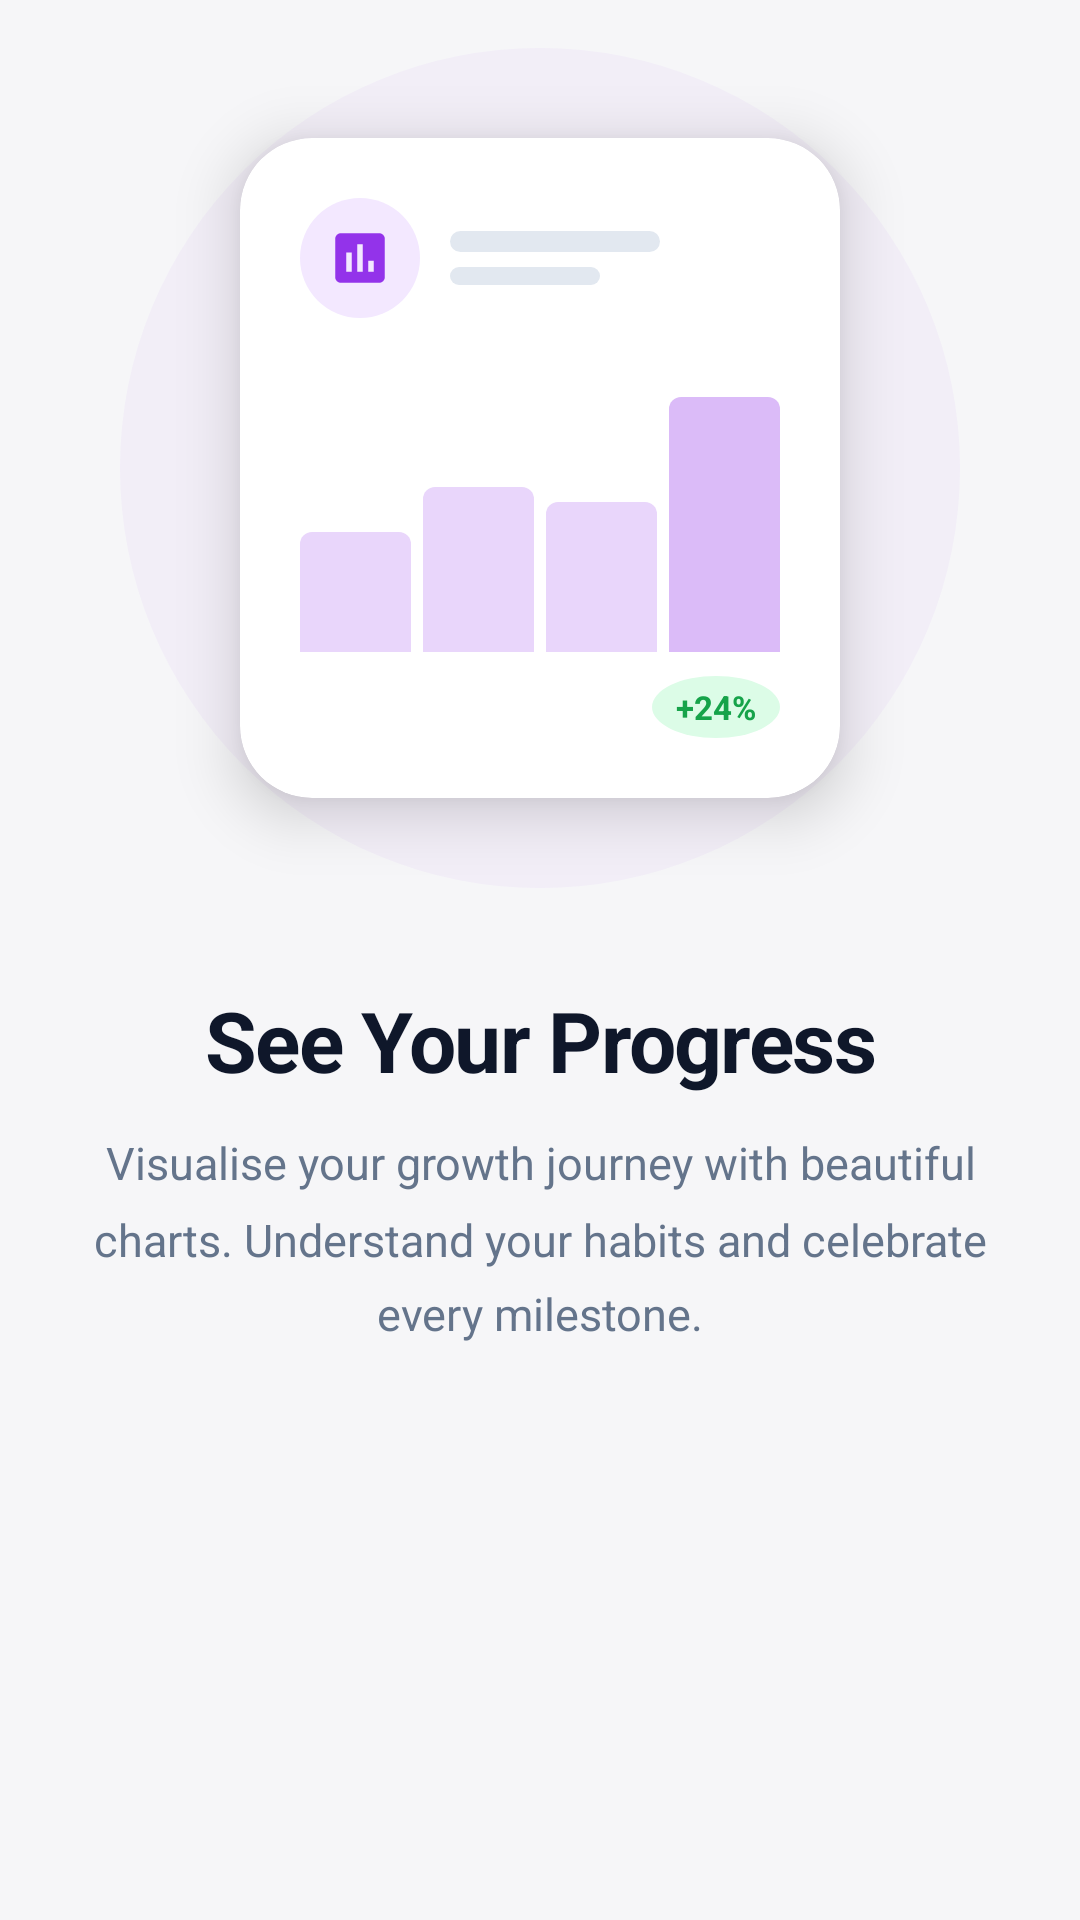

Named icons in this screenshot (1080*1920) and their bounding boxes, (x1, y1, x2, y2):
Progress: (335, 233, 385, 283)
